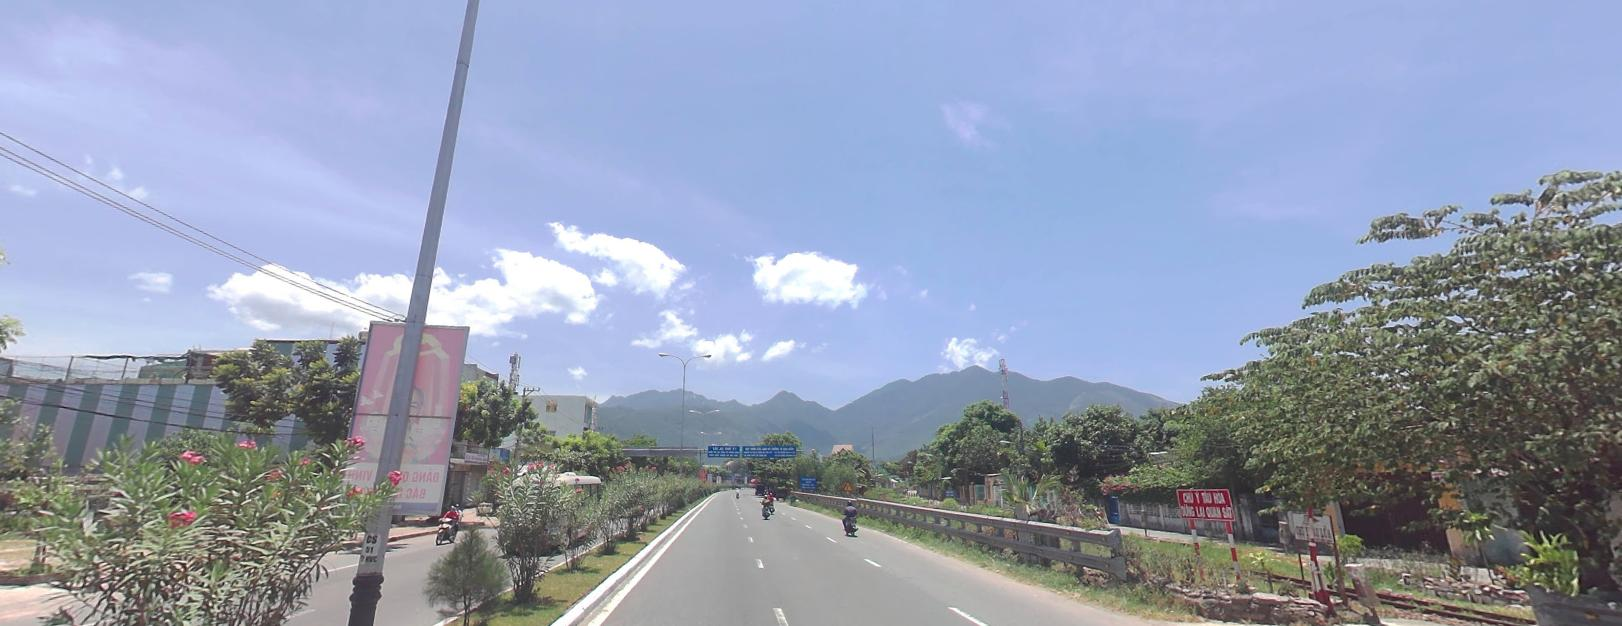Nguy hiem: (842, 479, 853, 489), (842, 480, 852, 489), (843, 480, 852, 489)
